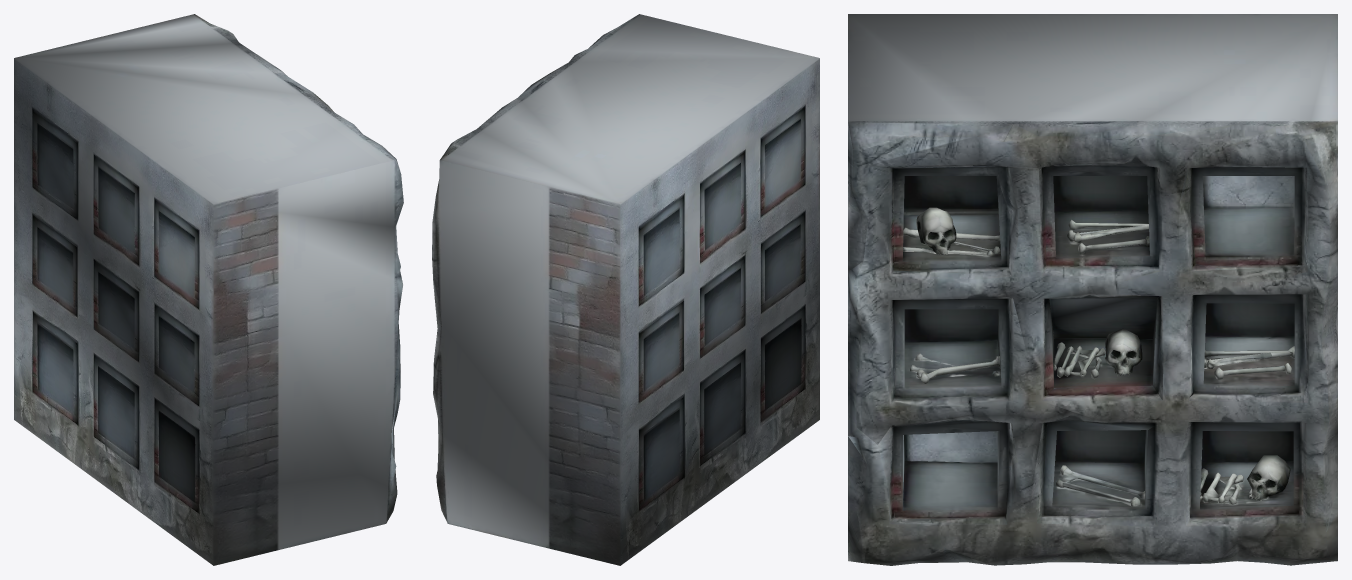
File: niches.glb
3 renders of one model, left to right at view 1: azimuth 30°, elevation 25°; view 2: azimuth 150°, elevation 25°; view 3: azimuth 270°, elevation 25°, orthographic. The views are drawn at different scales.
Visible parts, largest first — view 1: model; view 2: model; view 3: model.
Boxes of the visible parts, box(x1,y1,x2,y2) form: model: box(14, 14, 403, 565); model: box(432, 14, 819, 565); model: box(848, 14, 1337, 565).
Bounding box in the file's own units: 0.5616 × 1 × 1.
Materials: 1 (1 with a texture image).
